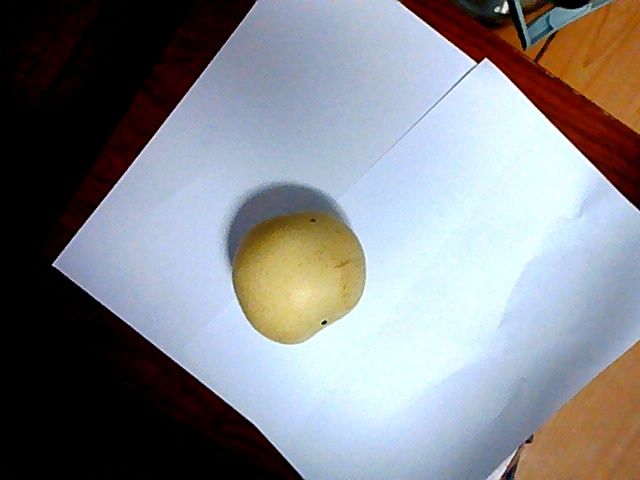pear: (233, 213, 370, 347)
